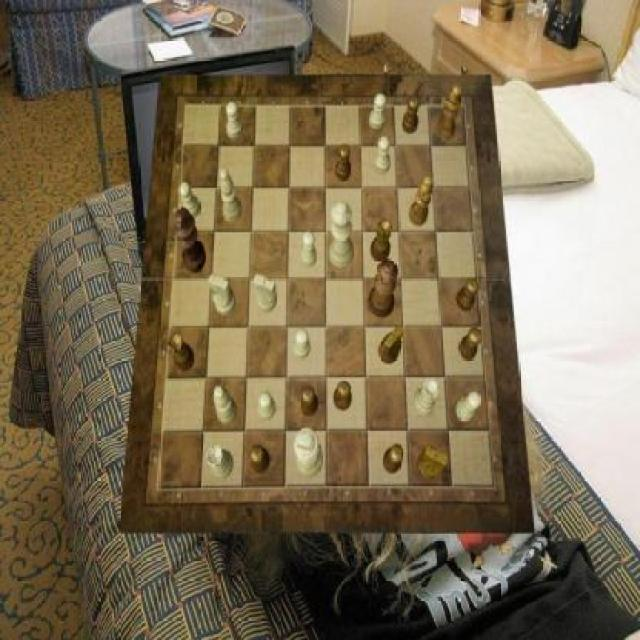bishop: (437, 84, 461, 140), (411, 176, 434, 227)
black-bishop: (174, 208, 206, 274)
black-king: (417, 444, 448, 480), (380, 324, 405, 364)
black-knight: (458, 328, 482, 362), (457, 278, 480, 312), (402, 95, 419, 134), (332, 380, 352, 411), (383, 444, 403, 474), (300, 386, 319, 417), (251, 446, 271, 474), (337, 144, 352, 180)
black-pawn: (368, 260, 398, 318)
black-queen: (168, 332, 195, 372), (369, 218, 392, 262)
black-rook: (220, 169, 243, 223), (212, 384, 236, 424)
white-bishop: (294, 428, 323, 478)
white-king: (209, 274, 236, 316), (254, 275, 278, 313)
white-knight: (178, 182, 201, 219), (457, 391, 481, 422), (369, 92, 386, 130), (300, 231, 317, 268), (376, 137, 392, 175), (228, 102, 244, 139), (257, 392, 276, 420), (294, 329, 311, 360)
white-pawn: (329, 202, 354, 269)
white-queen: (414, 377, 440, 415), (208, 445, 235, 479)
